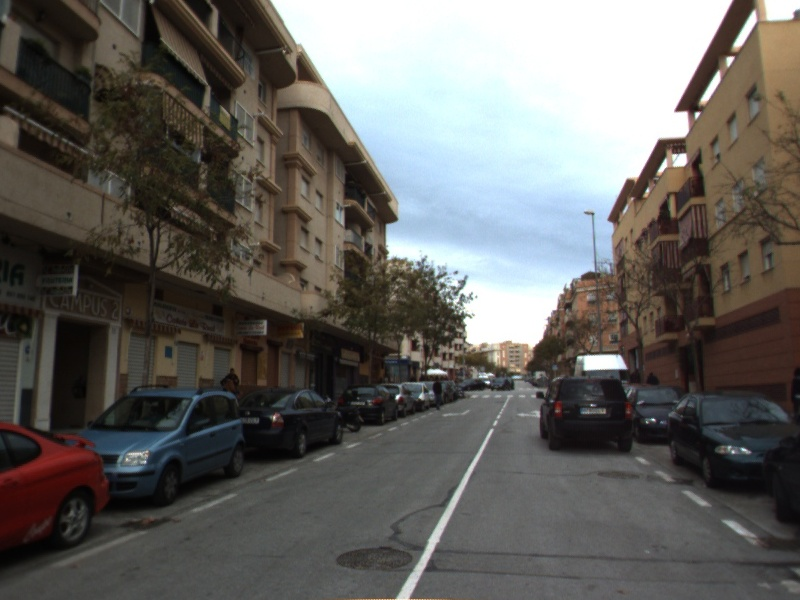STRAIGHT_LEFT: (515, 408, 542, 419)
